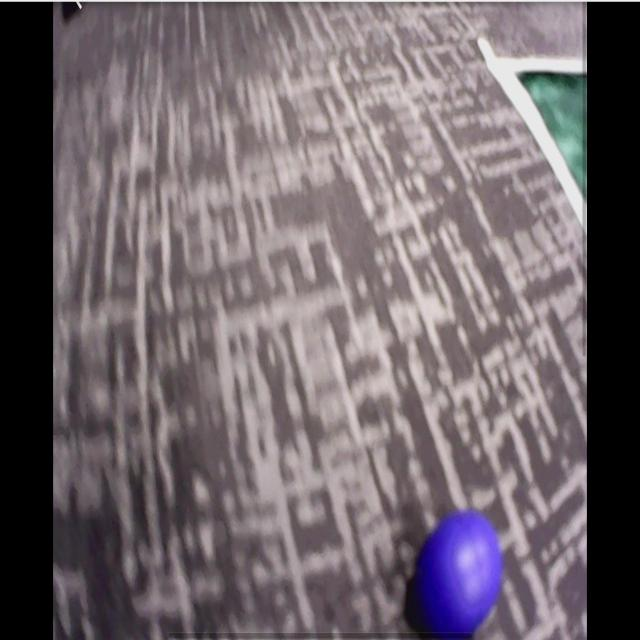ball: (422, 516, 503, 638)
